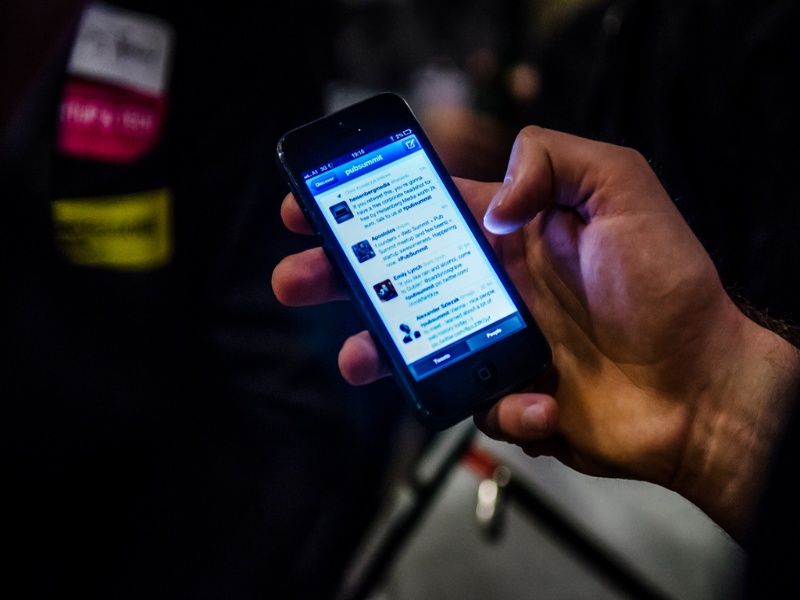cellphone: (264, 86, 562, 428)
